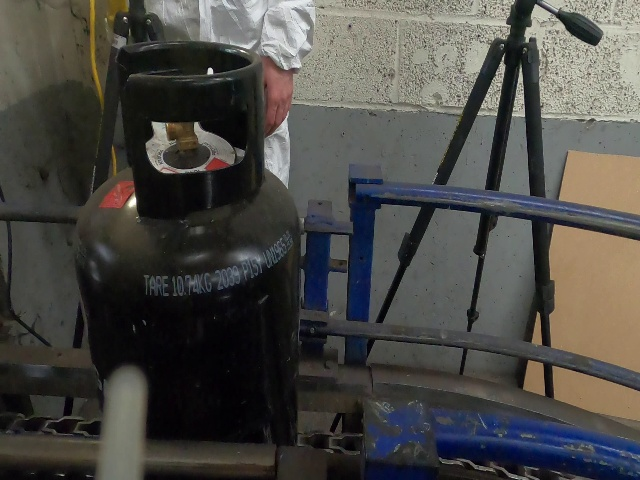gas_bottle: (2, 3, 640, 479)
